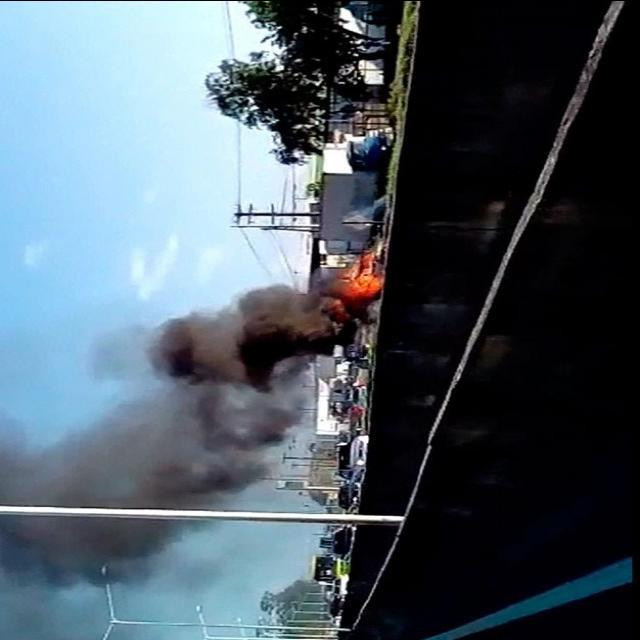Fire: (332, 272, 392, 306)
